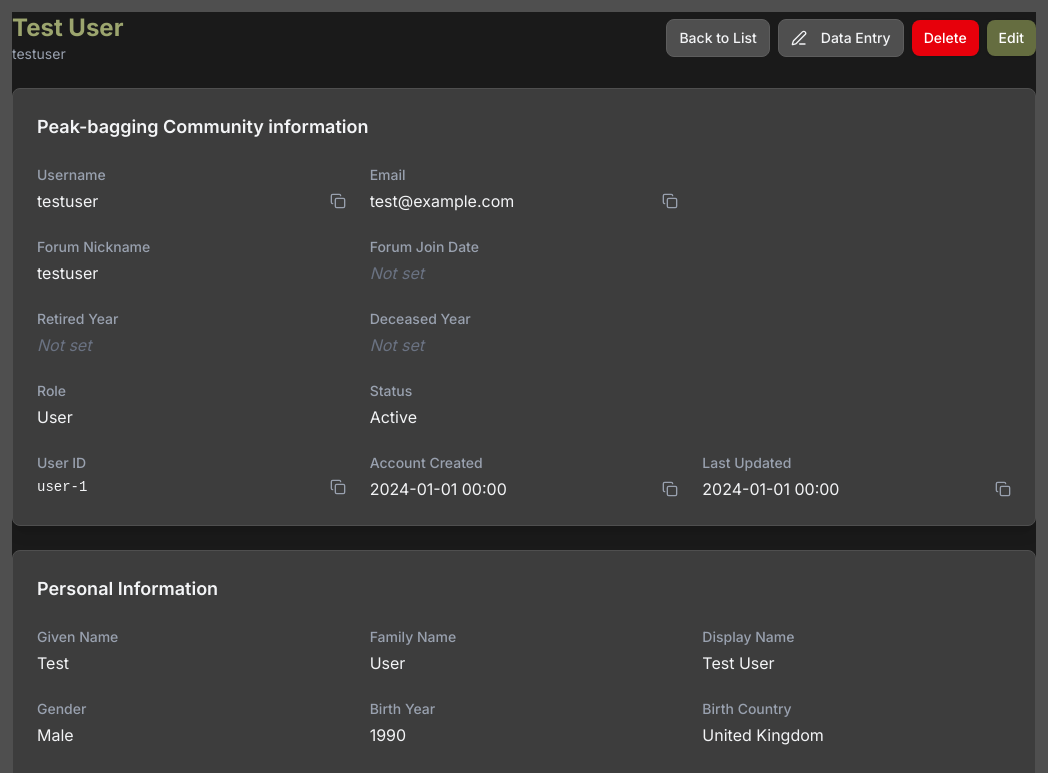
Scenario: UserProfile › saves profile changes successfully
Click the button "Edit".
click(1011, 38)  # box [987,20,1036,56]
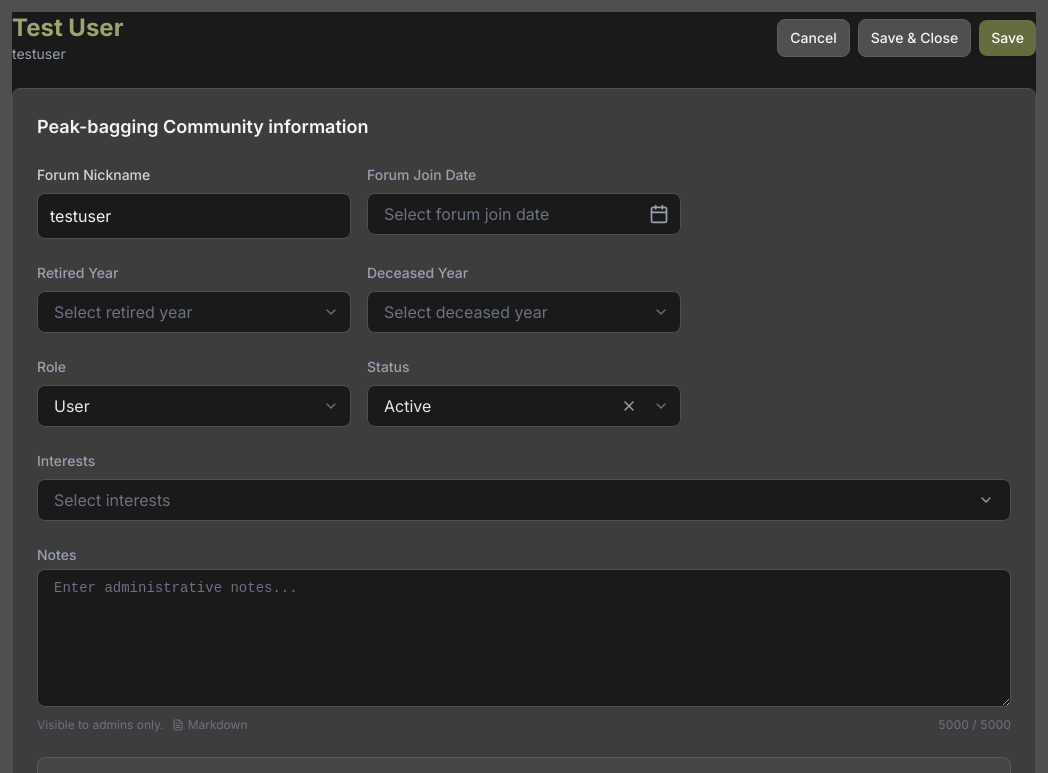
Click the button "Save".
click(1008, 38)  # box [979,20,1036,56]
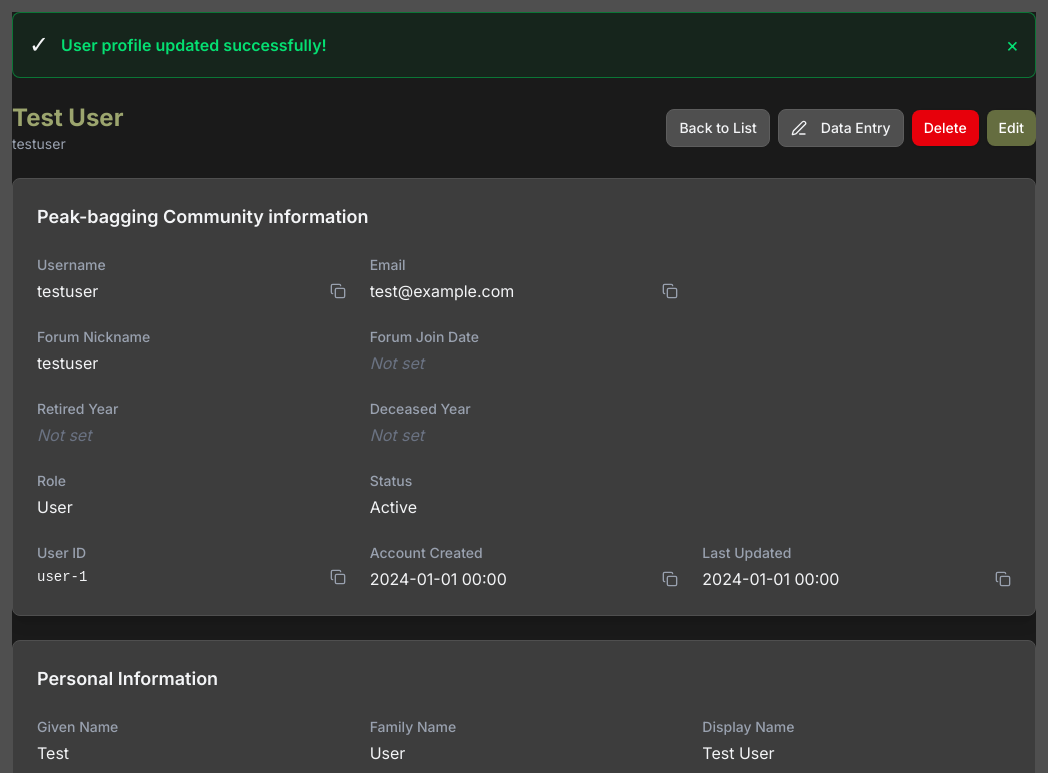
expect the heading "User profile updated successfully!" is shown: met, box [61,35,327,55]
